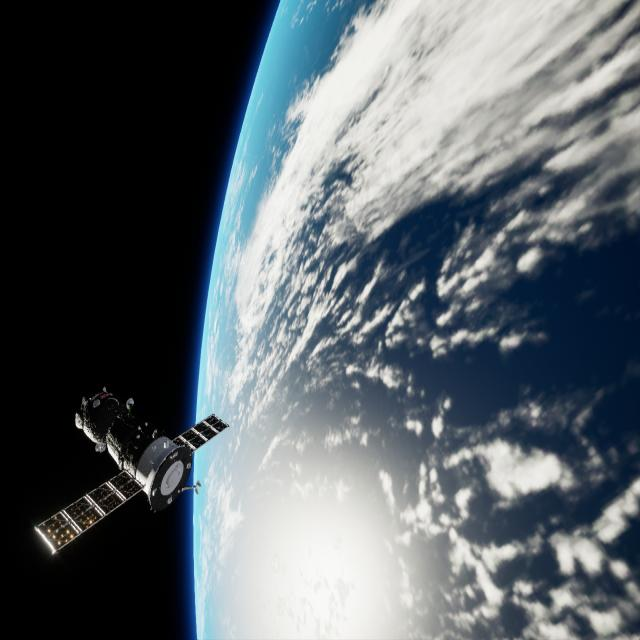Satellites revolving around earth: (32, 385, 230, 558)
